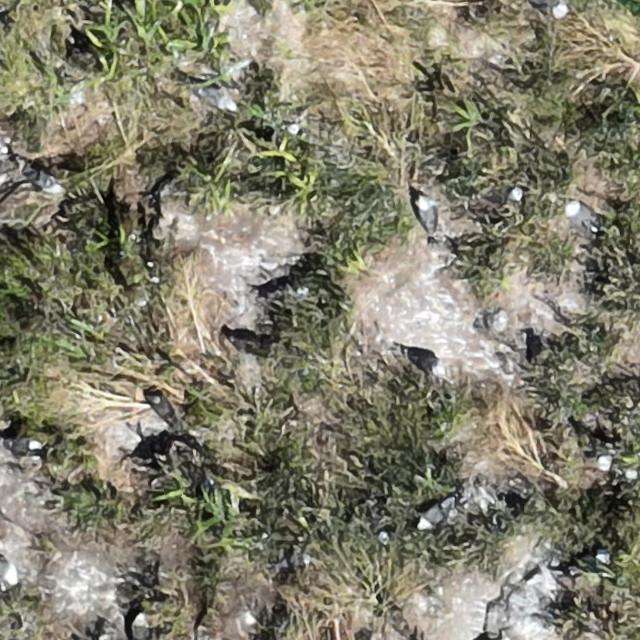umineko: (15, 156, 66, 196), (576, 424, 612, 472), (54, 64, 84, 104), (592, 526, 616, 572), (259, 279, 309, 300), (408, 353, 440, 375), (418, 504, 446, 528), (567, 202, 596, 225), (206, 89, 236, 110), (506, 184, 527, 214), (417, 200, 435, 234), (8, 438, 41, 454), (131, 613, 148, 639), (549, 2, 568, 18)
